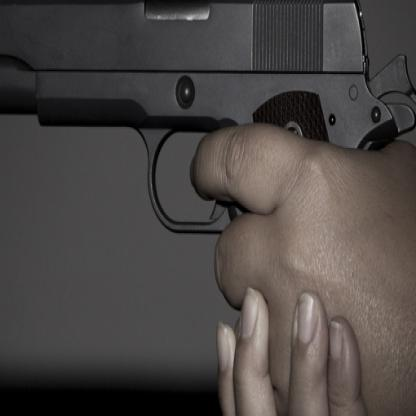gun: (0, 0, 415, 348)
